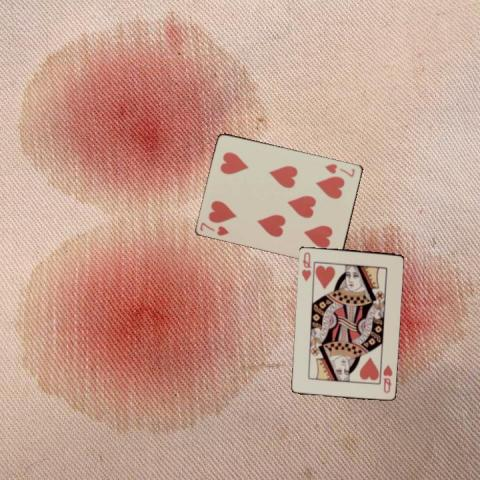7h: (197, 219, 231, 237), (322, 161, 357, 178)
Qh: (380, 361, 394, 394), (299, 248, 312, 282)
